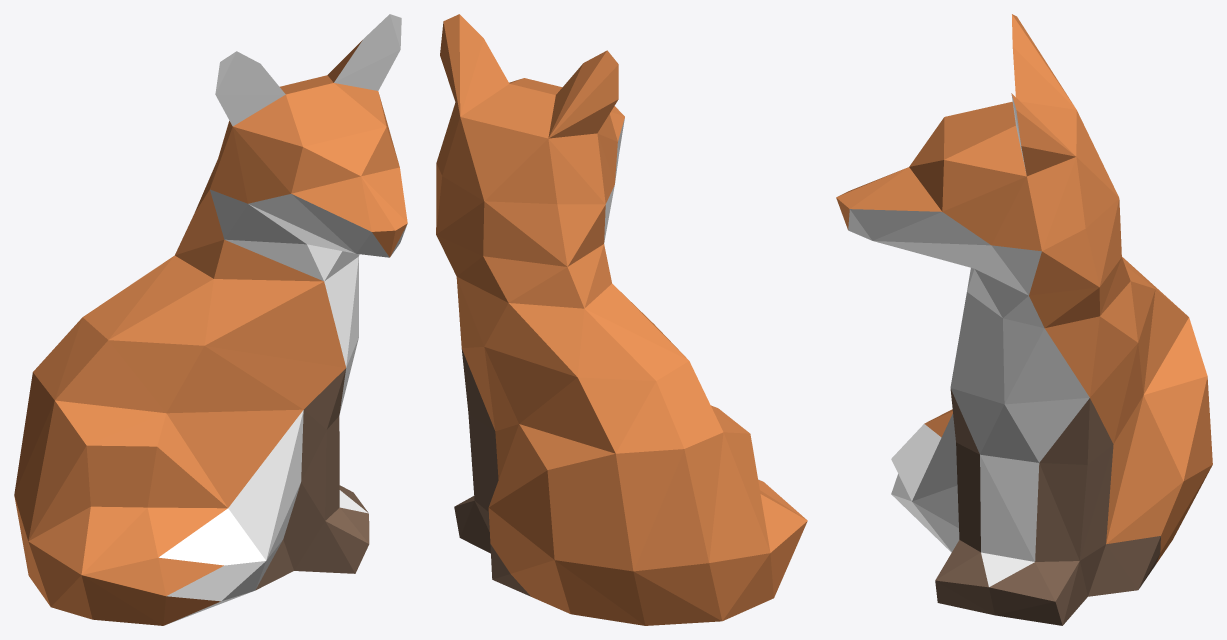
Rendered from asset.gltf.
3 views of the same model, side by side, from view 1: azimuth 30°, elevation 25°; view 2: azimuth 150°, elevation 25°; view 3: azimuth 270°, elevation 25° (orthographic). The views are drawn at different scales.
Visible parts, largest first — view 1: FoxLPC; view 2: FoxLPC; view 3: FoxLPC.
Boxes of the visible parts, x1,y1,x2,y2 form: FoxLPC: (14, 14, 407, 625); FoxLPC: (436, 14, 807, 625); FoxLPC: (836, 14, 1212, 625).
Size of the model in its own units: 38.59 by 53.47 by 33.45.
